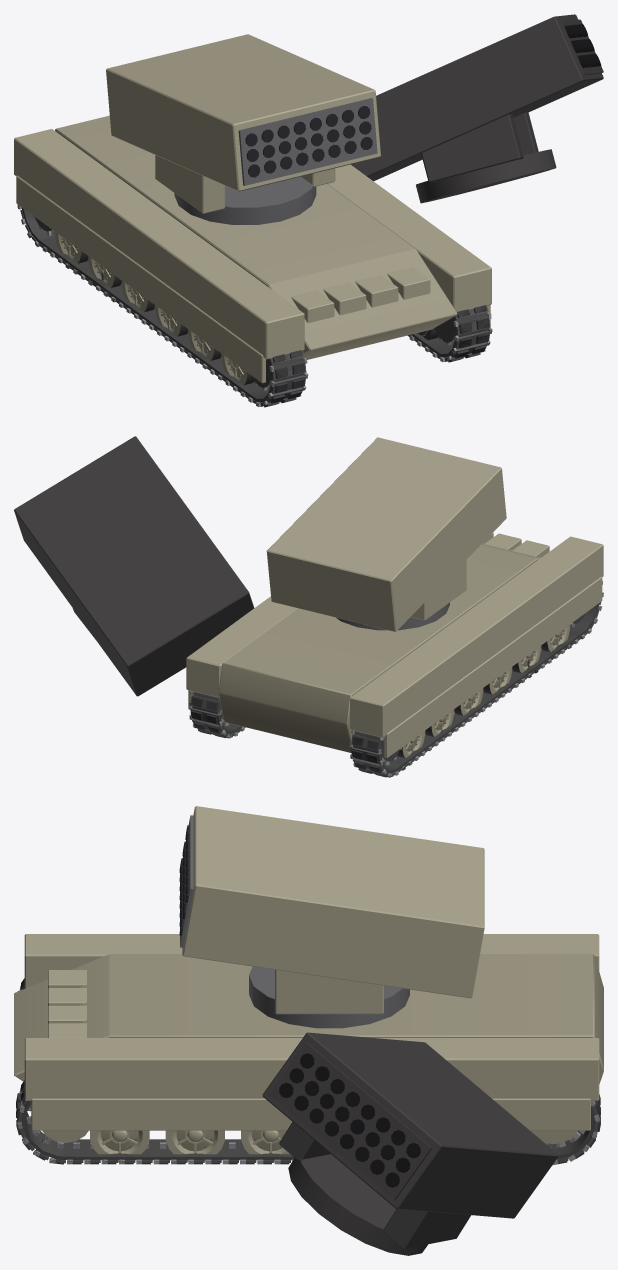
Rendered from tos1a__tos_1a_solntsepyok.glb.
3 renders of one model, top to bottom at view 1: azimuth 30°, elevation 25°; view 2: azimuth 150°, elevation 25°; view 3: azimuth 270°, elevation 25°, orthographic. The views are drawn at different scales.
Visible parts, largest first — view 1: Hull_Mesh, Gun_Mesh, Wreck, Turret_Mesh, Track_L_Mesh, Track_R_Mesh; view 2: Hull_Mesh, Wreck, Gun_Mesh, Track_L_Mesh, Turret_Mesh, Track_R_Mesh; view 3: Hull_Mesh, Gun_Mesh, Wreck, Turret_Mesh, Track_R_Mesh, Wheel_R4_Mesh, Wheel_R5_Mesh, Wheel_R3_Mesh.
Boxes of the visible parts, box(x1,y1,x2,y2) form: Hull_Mesh: box(14, 115, 491, 383); Gun_Mesh: box(106, 34, 380, 191); Wreck: box(17, 14, 603, 407); Turret_Mesh: box(155, 155, 335, 224); Track_L_Mesh: box(17, 205, 308, 406); Track_R_Mesh: box(408, 305, 492, 362); Hull_Mesh: box(186, 532, 603, 757); Wreck: box(14, 436, 603, 777); Gun_Mesh: box(266, 437, 506, 631); Track_L_Mesh: box(349, 581, 603, 777); Turret_Mesh: box(336, 560, 466, 630); Track_R_Mesh: box(188, 691, 245, 738); Hull_Mesh: box(14, 934, 603, 1130); Gun_Mesh: box(179, 806, 484, 998); Wreck: box(16, 979, 598, 1255); Turret_Mesh: box(249, 966, 409, 1028); Track_R_Mesh: box(16, 1080, 600, 1165); Wheel_R4_Mesh: box(165, 1130, 224, 1161); Wheel_R5_Mesh: box(90, 1130, 149, 1162); Wheel_R3_Mesh: box(241, 1130, 290, 1162).
Size of what is drawn, in the model's own units: 7.86 by 3.43 by 7.03.
